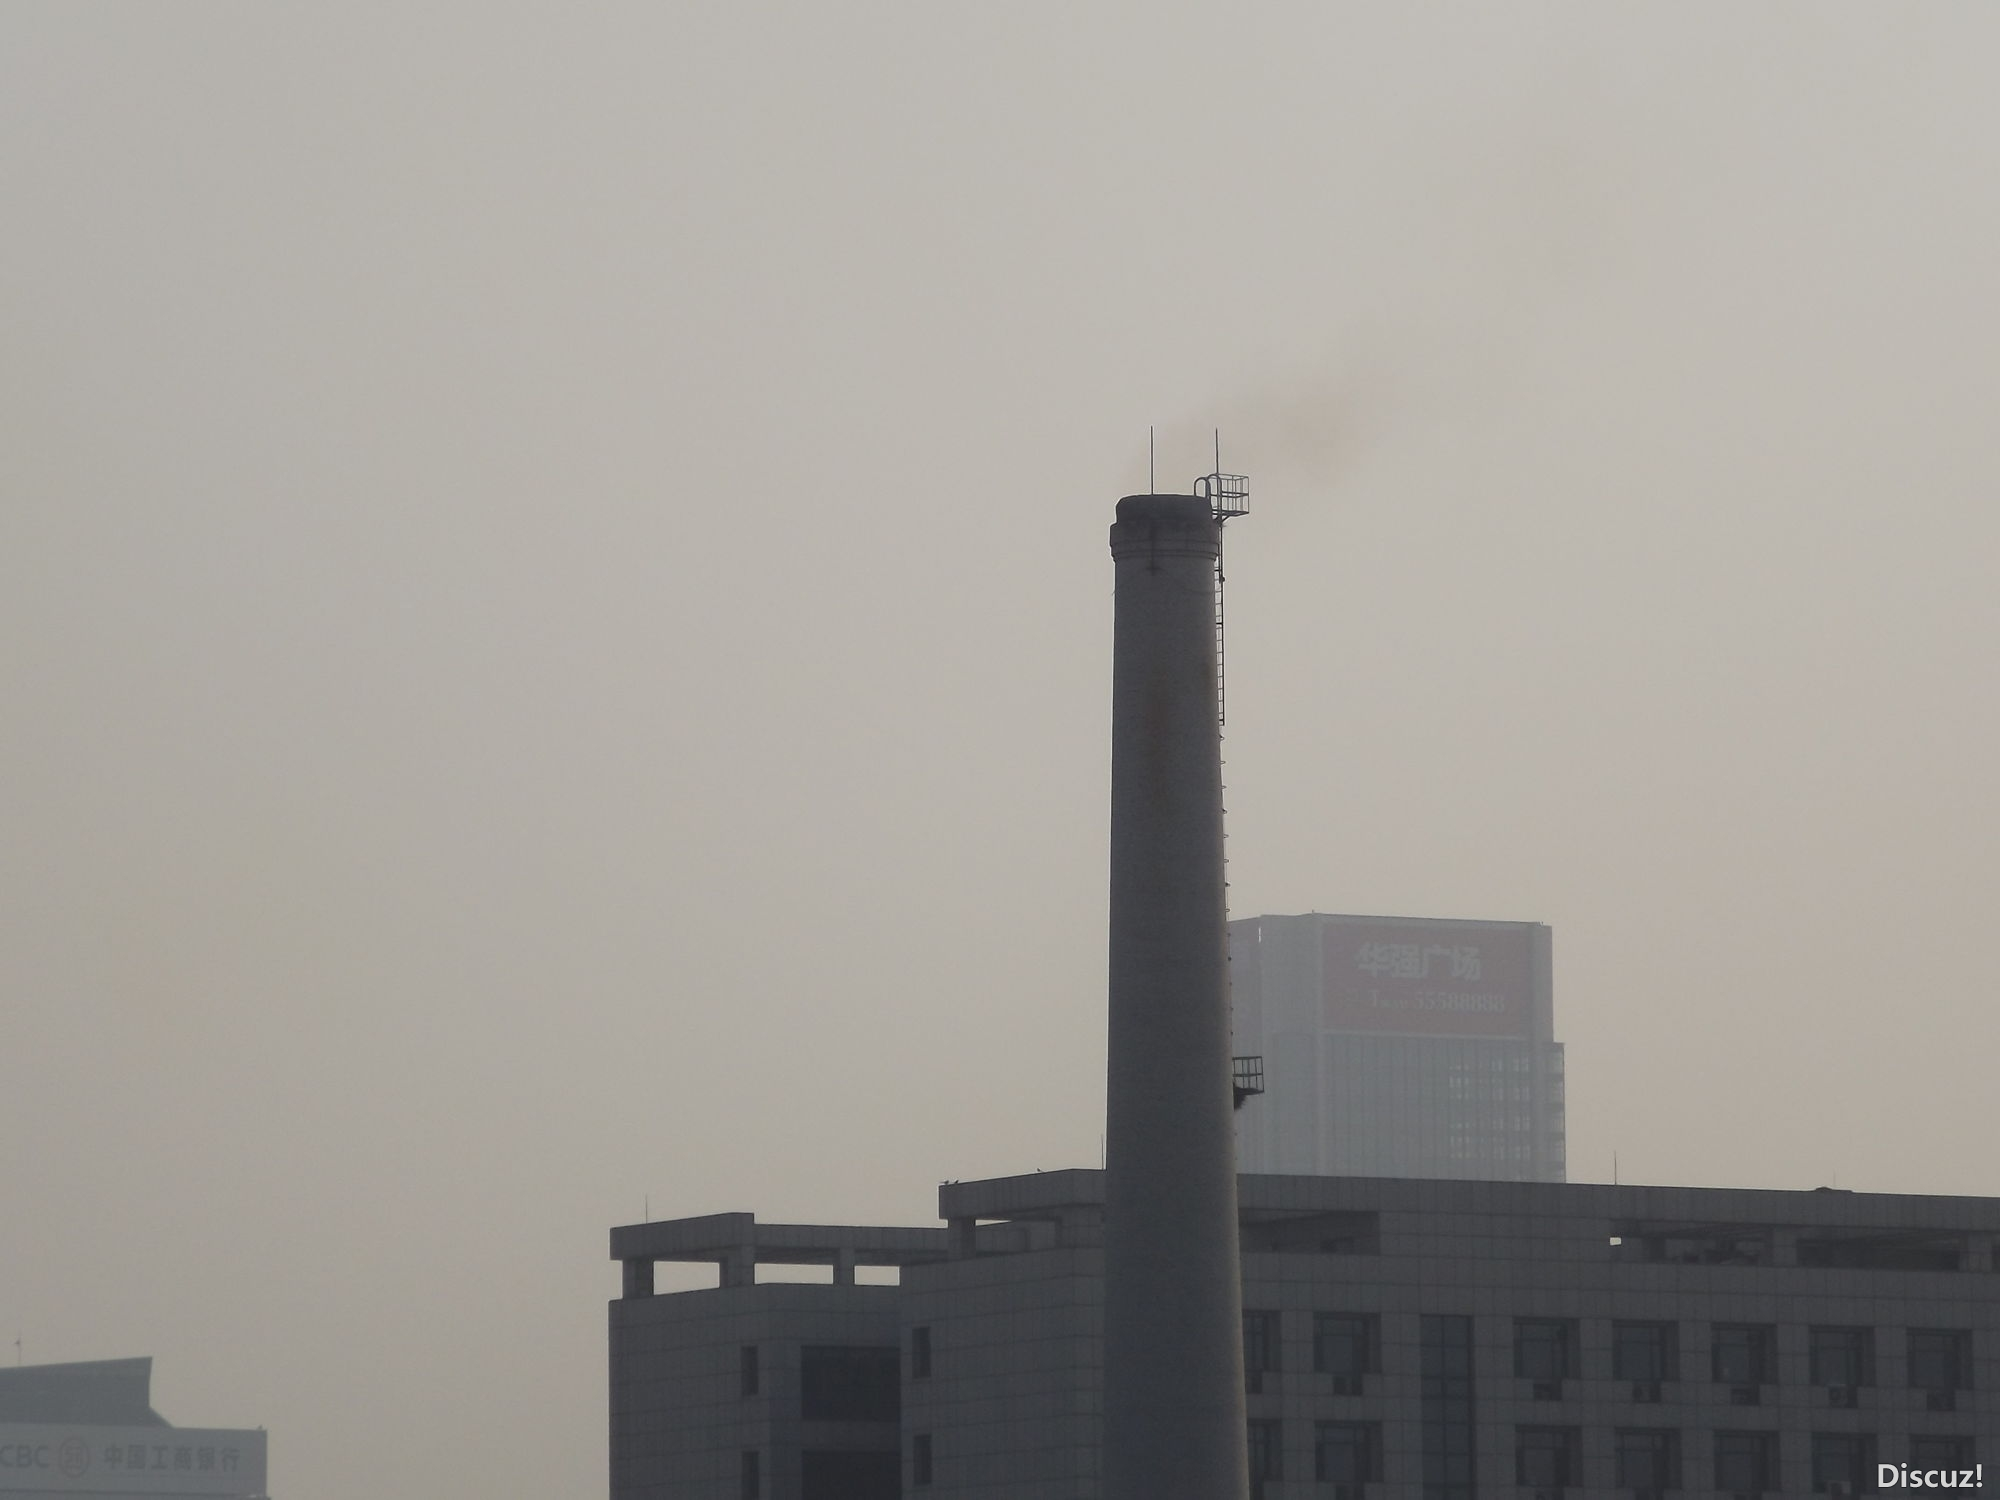dust: (1099, 348, 1373, 520)
